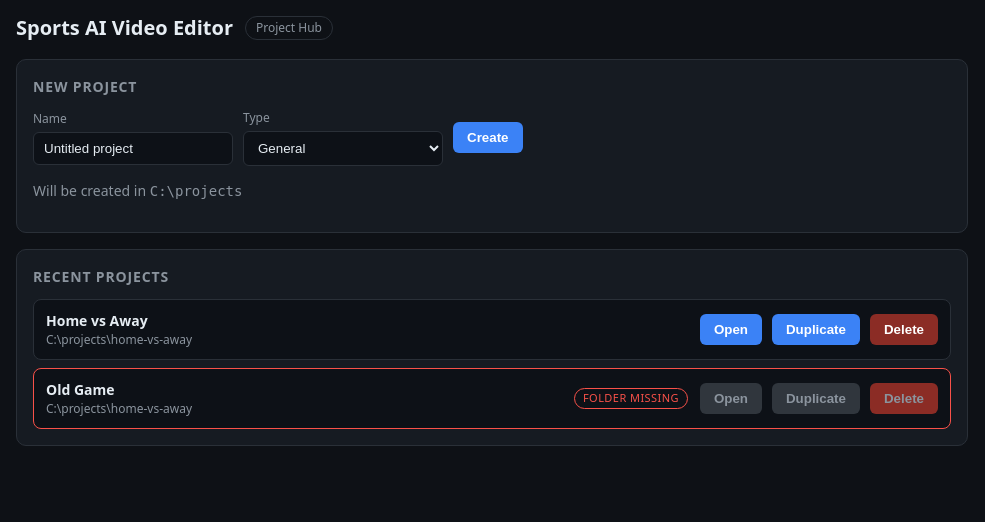
it: Project Hub › surfaces a storage failure instead of failing silently
The width and height of the screenshot is (985, 522).
Expected: the text "Home vs Away" is shown, [46,311,148,330]
Click the button "Open" in the row of "Home vs Away": [731, 330] box [700,314,762,345]
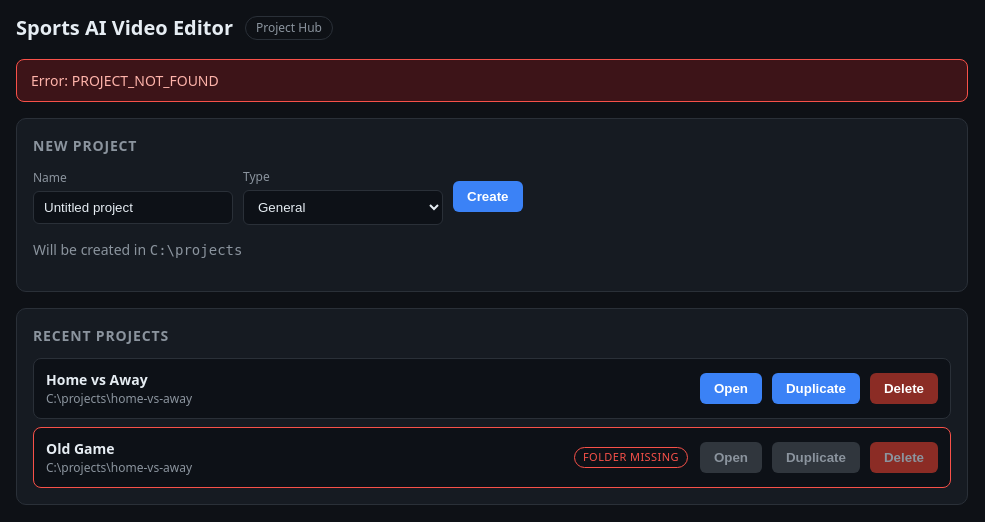
Expected: the message shows "PROJECT_NOT_FOUND", [31,71,219,90]
